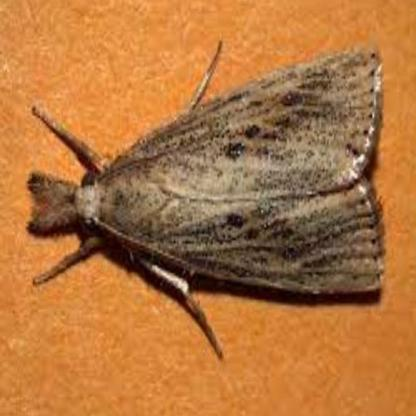stem-borer: (25, 35, 386, 364)
